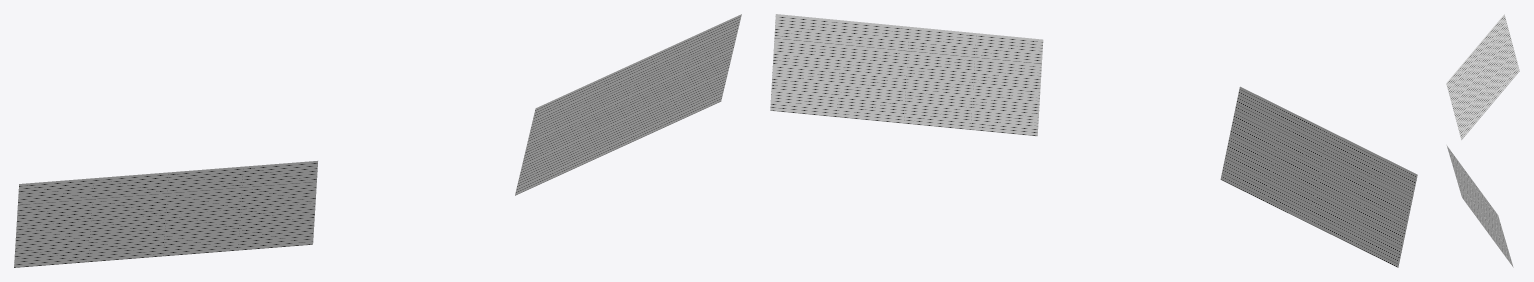
The model's file is pref_fx_RemoatStadium_SnowStyle_Holographic_lv3.fbx.
3 views of the same model, side by side, from view 1: azimuth 30°, elevation 25°; view 2: azimuth 150°, elevation 25°; view 3: azimuth 270°, elevation 25° (orthographic). The views are drawn at different scales.
Parts seen in each view (by area): view 1: touying02, touying01; view 2: touying01, touying02; view 3: touying02, touying01.
Part boxes in pixels (x1,y1,x2,y2): touying02: (14, 161, 317, 267); touying01: (515, 14, 741, 195); touying01: (770, 14, 1043, 136); touying02: (1220, 86, 1417, 267); touying02: (1446, 14, 1519, 139); touying01: (1446, 145, 1513, 267).
Bounding box in the file's own units: 24.5 × 3.15 × 3.8.
